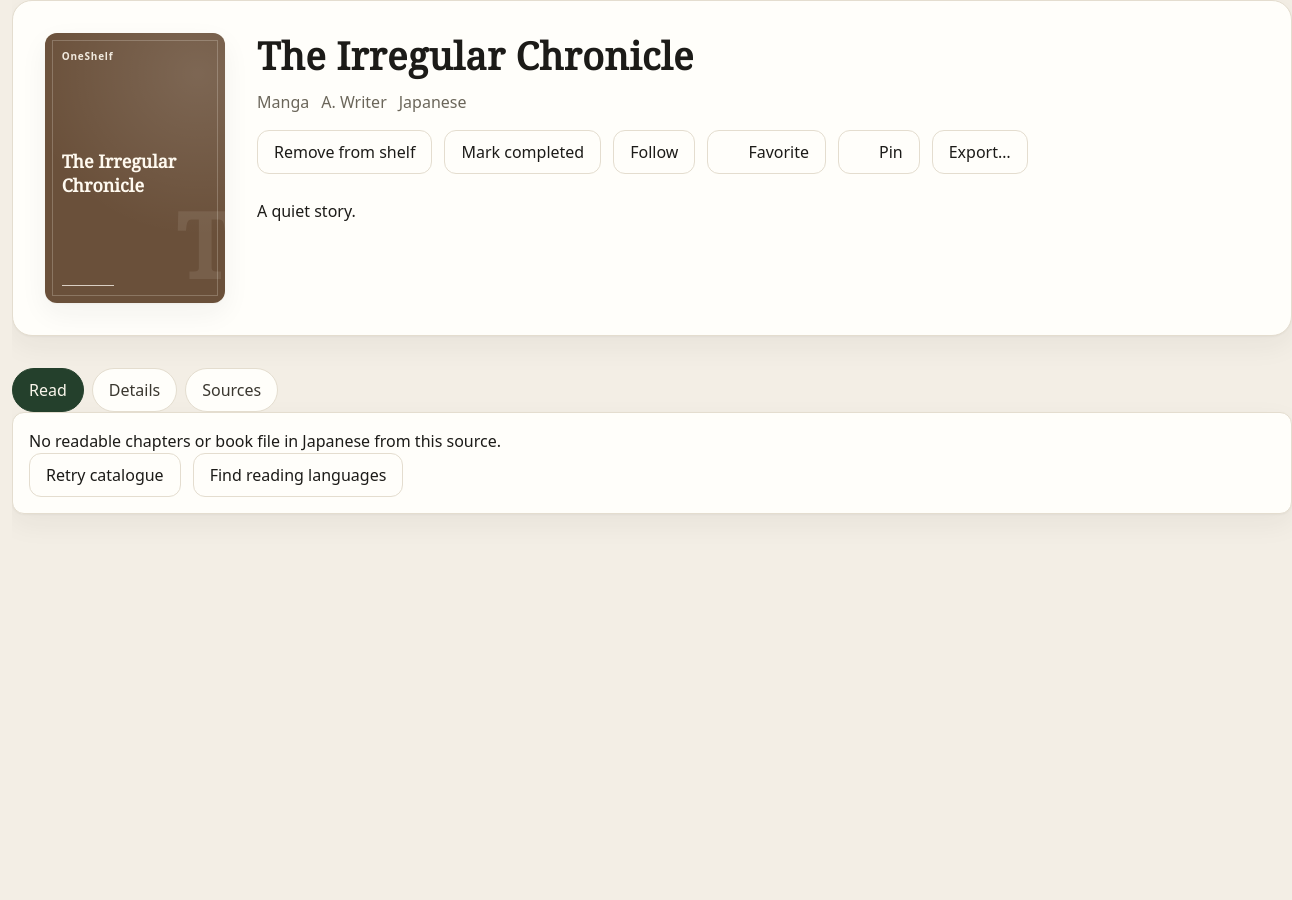
Work Details › explains when a reported translation has no chapters readable in OneShelf
The image size is (1292, 900).
Click the tab "Sources" at (232,390), box [185,368,278,412]
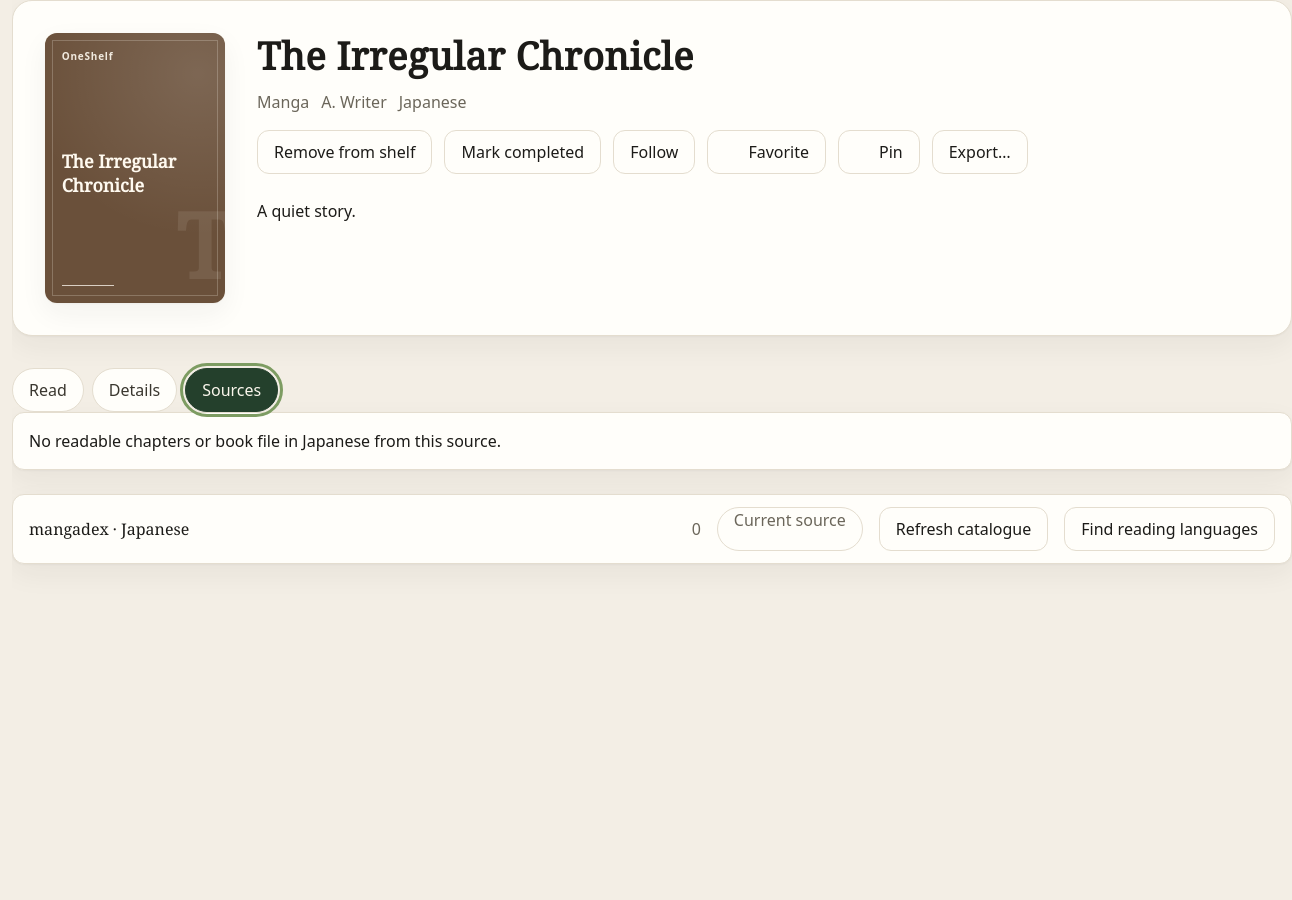
Click the button "Find reading languages" at (1170,529), box [1064,507,1275,551]
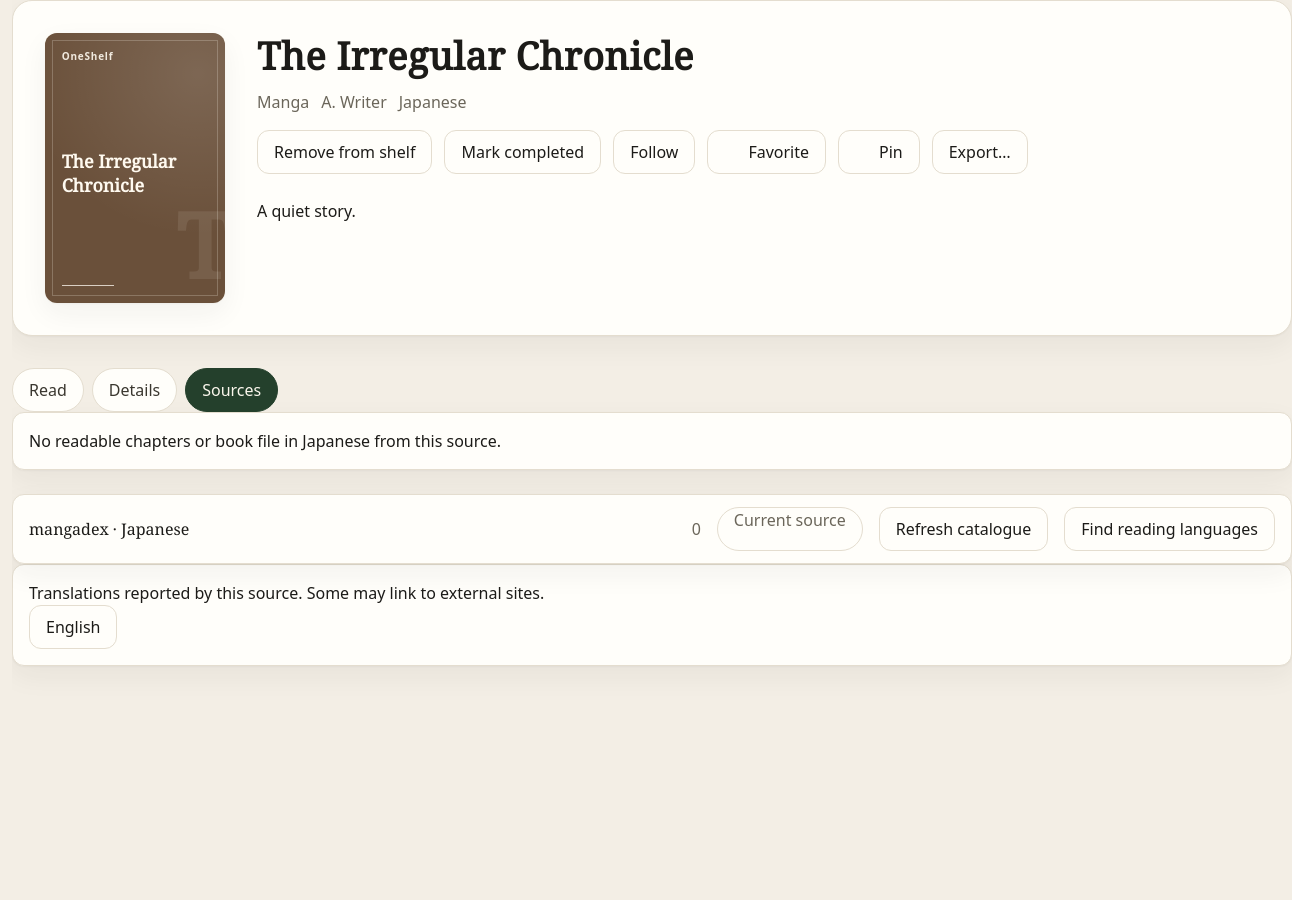
Click the button "English" at (73,627), box [29,605,117,649]
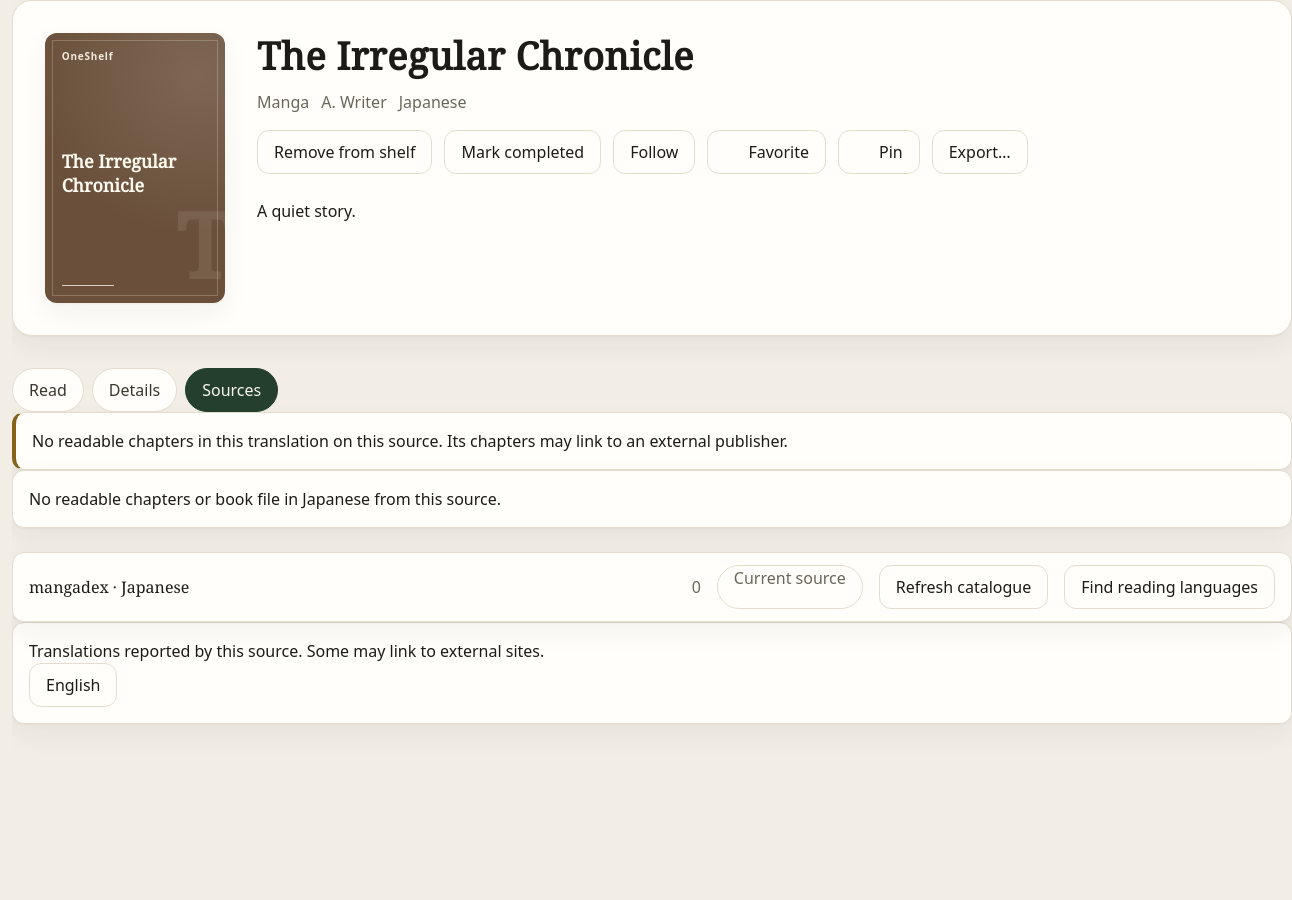
Expected: the text "Current source" is shown, [717,565,863,609]
Expected: the 1st message shows "No readable chapters", [32,430,788,452]
